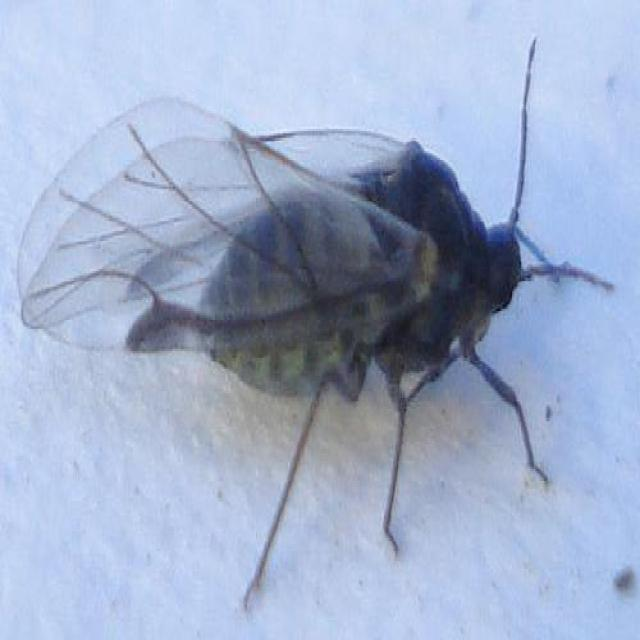Aphids: (30, 106, 599, 606)
